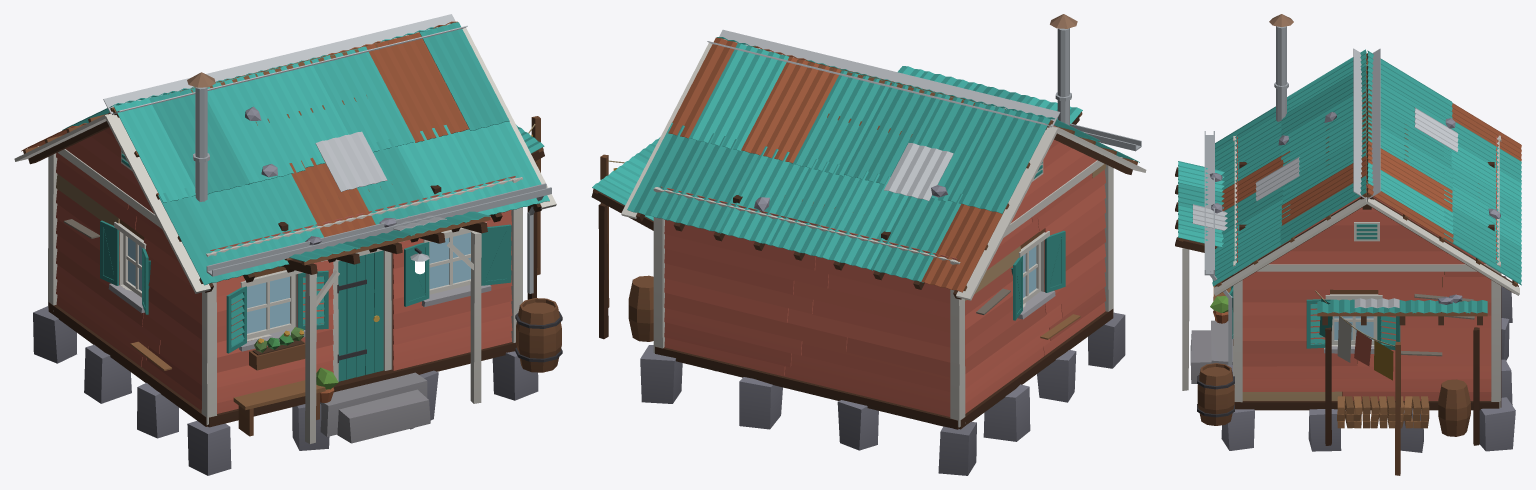
3 renders of one model, left to right at view 1: azimuth 30°, elevation 25°; view 2: azimuth 150°, elevation 25°; view 3: azimuth 270°, elevation 25°, orthographic. The views are drawn at different scales.
Parts seen in each view (by area): view 1: H09_ROOF, H09_WALL_S, H09_WALL_W, H09_BASE, H09_DOOR_main, H09_WALL_E; view 2: H09_ROOF, H09_WALL_N, H09_WALL_W, H09_BASE, H09_WALL_E, H09_WALL_S; view 3: H09_ROOF, H09_WALL_E, H09_WALL_S, H09_BASE, H09_WALL_N.
Part boxes in pixels (x1,y1,x2,y2): H09_ROOF: (14,14,556,293); H09_WALL_S: (206,176,562,443); H09_WALL_W: (48,113,216,424); H09_BASE: (33,302,538,475); H09_DOOR_main: (337,250,383,381); H09_WALL_E: (438,27,544,337); H09_ROOF: (621,14,1146,300); H09_WALL_N: (654,186,963,427); H09_WALL_W: (950,125,1113,426); H09_BASE: (640,309,1125,475); H09_WALL_E: (591,137,664,352); H09_WALL_S: (897,66,1141,311); H09_ROOF: (1212,14,1521,295); H09_WALL_E: (1233,181,1500,475); H09_WALL_S: (1175,131,1237,425); H09_BASE: (1190,273,1515,452); H09_WALL_N: (1496,136,1501,400).
Bounding box in the file's own units: 6.81 × 5.37 × 5.38.
